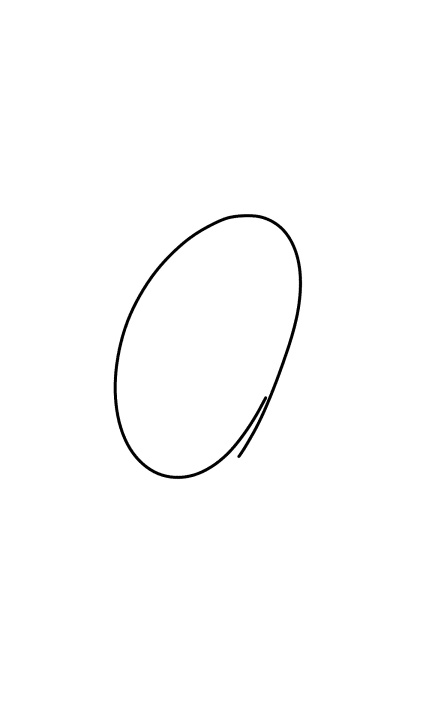Circle: (105, 211, 309, 480)
